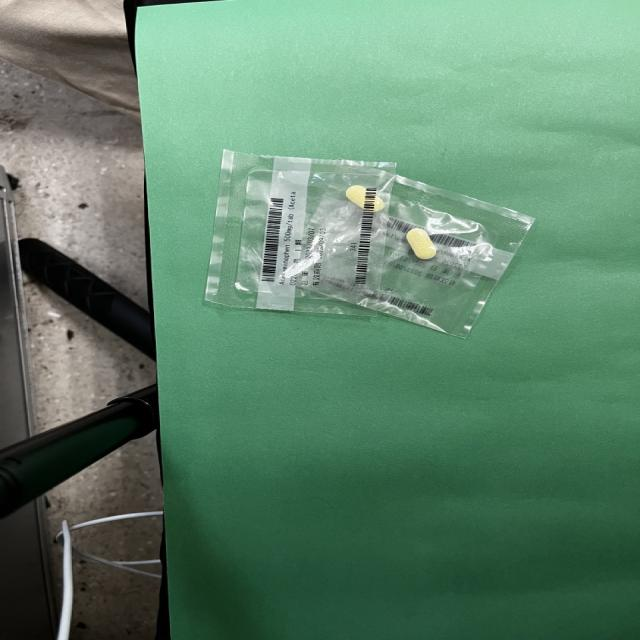Other Objects: (205, 150, 533, 337)
